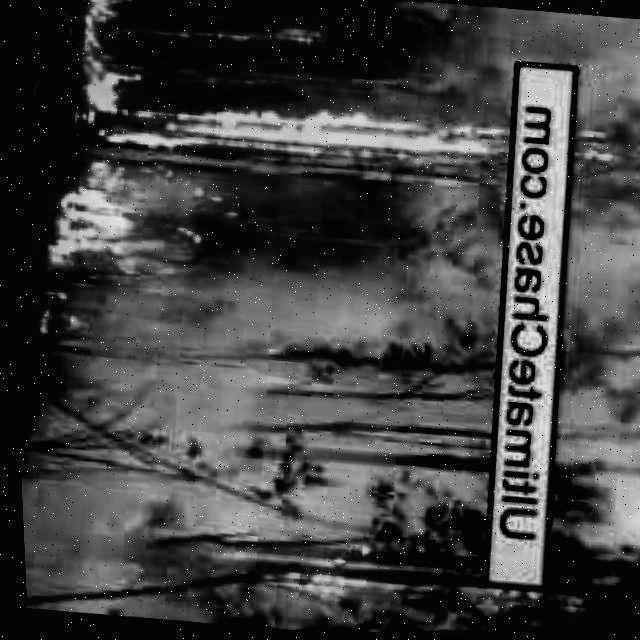Fire: (143, 88, 515, 179), (50, 0, 165, 266), (453, 577, 578, 632), (179, 9, 325, 53), (276, 561, 376, 617), (267, 0, 319, 9)
Smoke: (5, 141, 518, 640)
